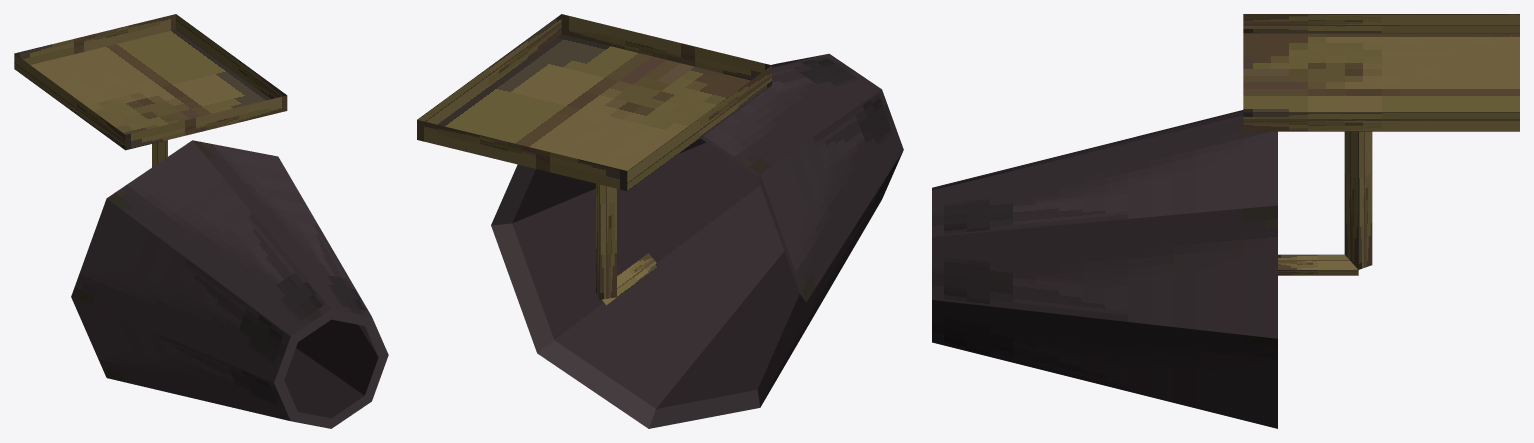
The model's file is pz_native_lighting_indoor_01_23_wall_lamp.obj.
The picture shows the model from 3 angles, left to right: view 1: azimuth 30°, elevation 25°; view 2: azimuth 150°, elevation 25°; view 3: azimuth 270°, elevation 25°; orthographic projection. The views are drawn at different scales.
Visible parts, largest first — view 1: pz_native_lighting_indoor_01_23_wall_lamp; view 2: pz_native_lighting_indoor_01_23_wall_lamp; view 3: pz_native_lighting_indoor_01_23_wall_lamp.
Part boxes in pixels (x1,y1,x2,y2): pz_native_lighting_indoor_01_23_wall_lamp: [14, 14, 388, 428]; pz_native_lighting_indoor_01_23_wall_lamp: [417, 14, 903, 428]; pz_native_lighting_indoor_01_23_wall_lamp: [932, 14, 1519, 428].
Size of the model in its own units: 0.4001 by 0.4557 by 0.6743.
Materials: 1 (1 with a texture image).
